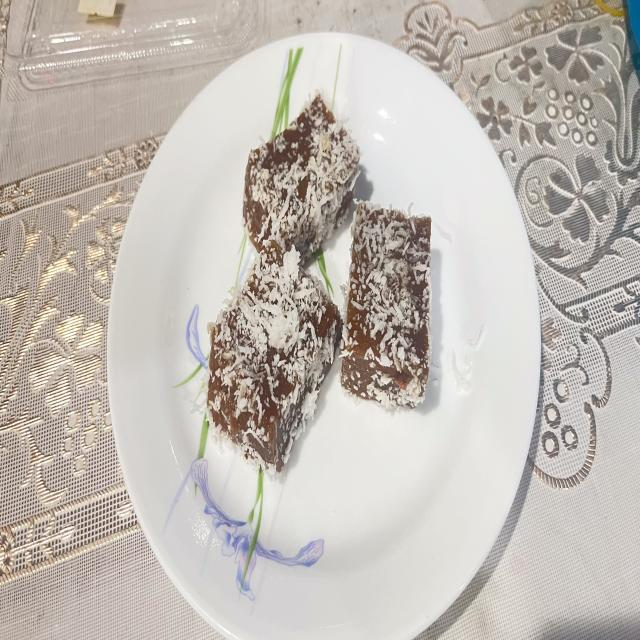kaswi: (206, 242, 341, 471), (242, 96, 360, 262), (341, 202, 431, 409)
